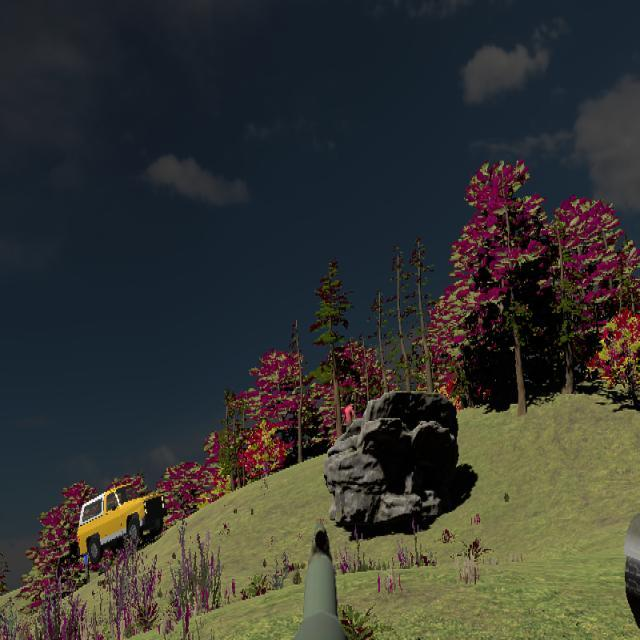car: (77, 484, 165, 564)
